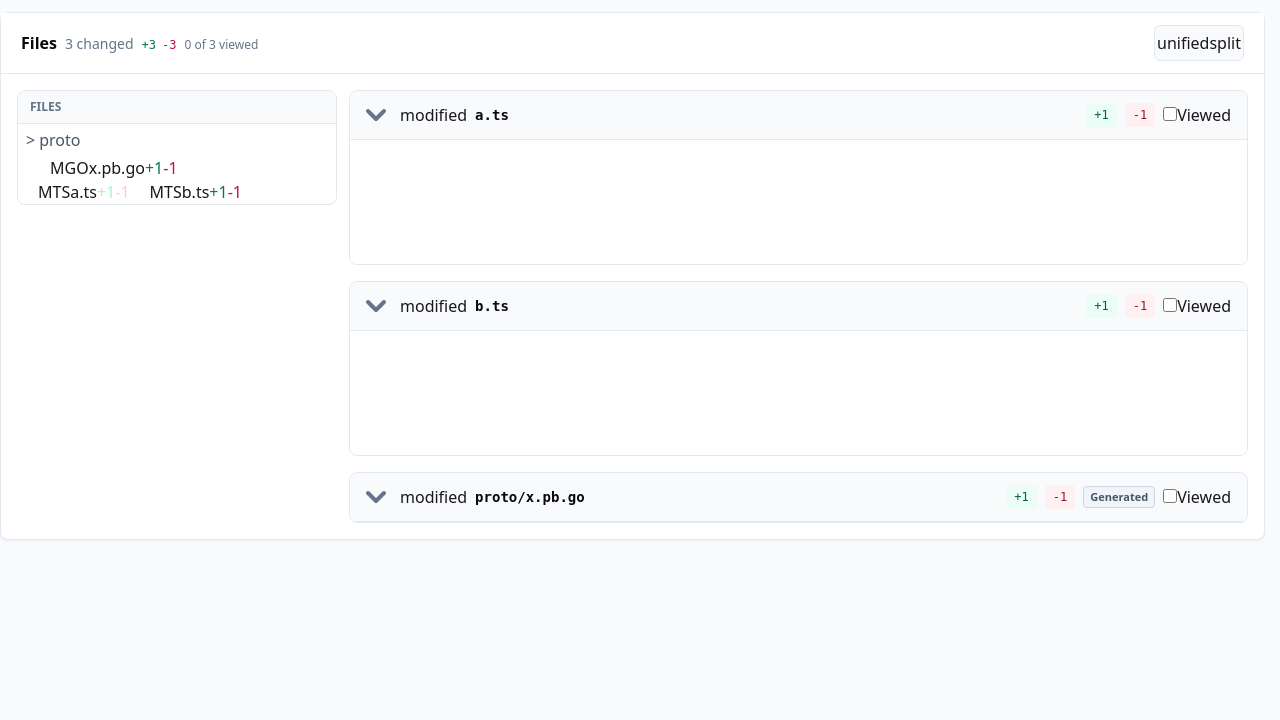
Test: reviewing a changeset's diff › marking a file viewed folds it, counts it and ticks it in the tree; unmarking opens it
Check: the text "0 of 3 viewed" is shown, box [184,37,258,53]
Click the checkbox named "Viewed a.ts": click(1170, 114) [1163,107,1177,121]
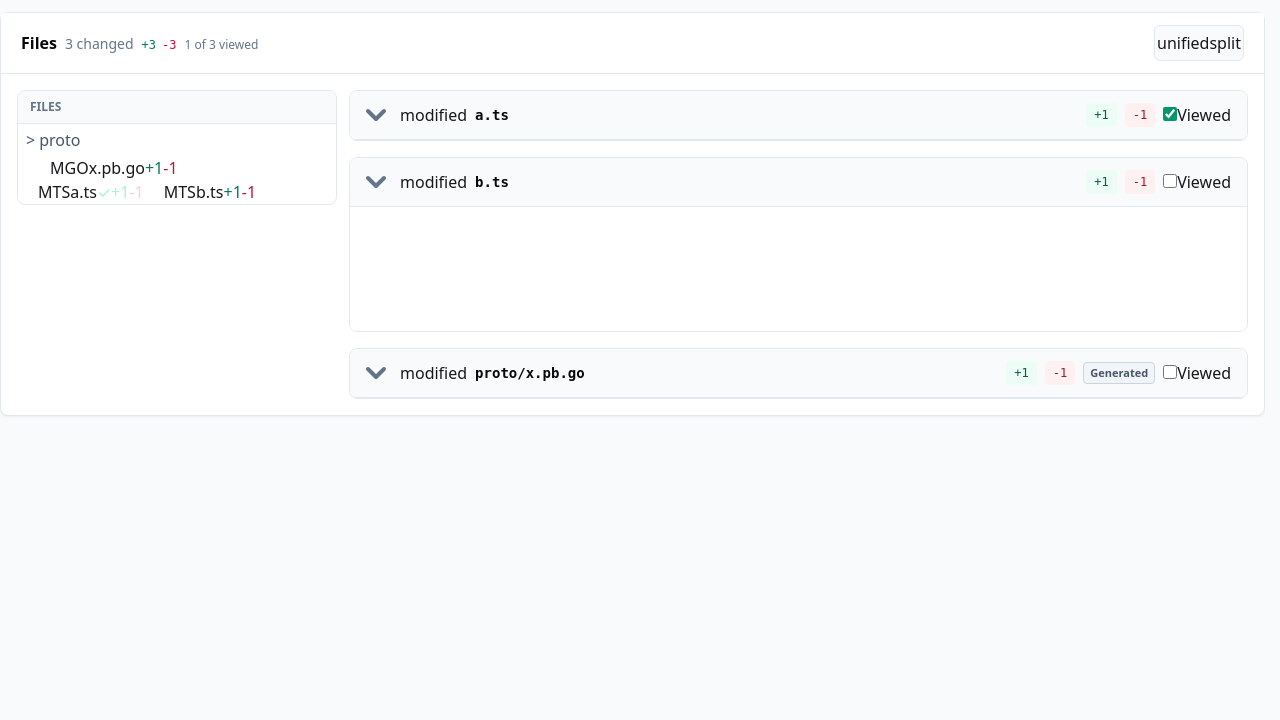
Check: the checkbox named "Viewed a.ts" is checked
Check: the text "1 of 3 viewed" is shown, box [184,37,258,53]
Check: the number of pictures named "viewed" is 1, box [97,181,111,203]
Click the checkbox named "Viewed a.ts": click(1170, 114) [1163,107,1177,121]
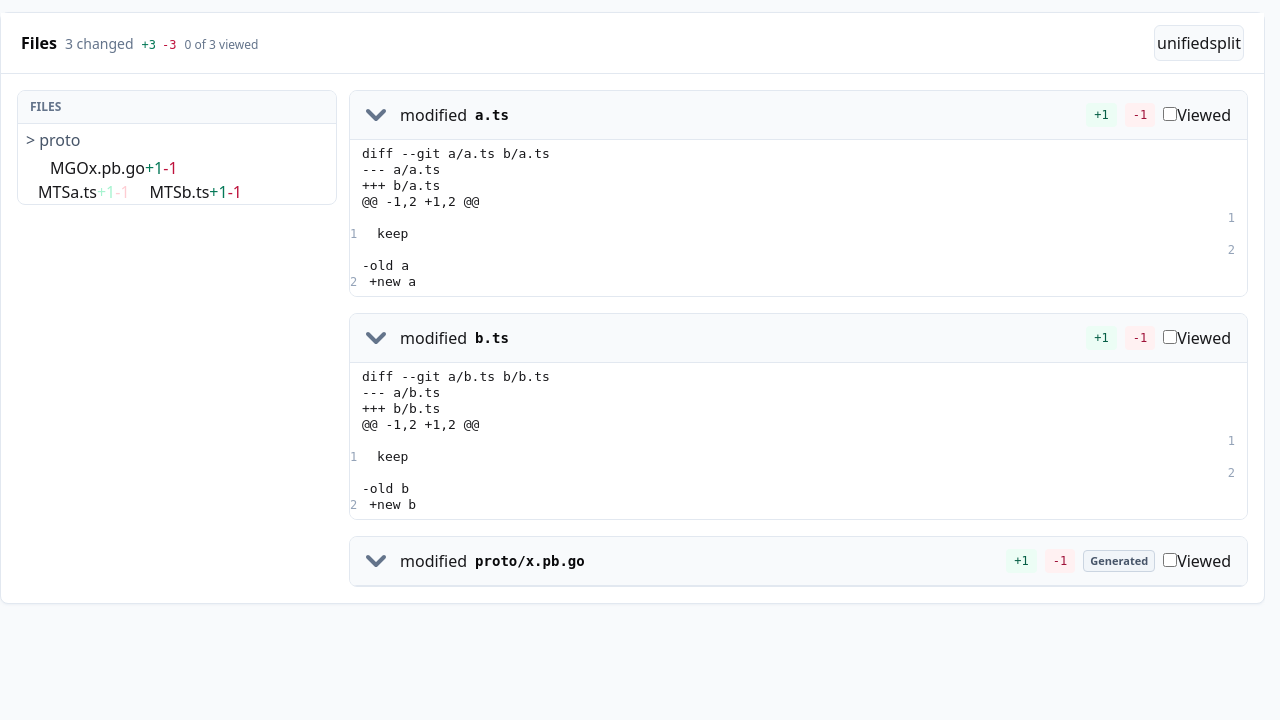
Check: the checkbox named "Viewed a.ts" is not checked, box [1163,107,1177,121]
Check: the text "0 of 3 viewed" is shown, box [184,37,258,53]
Check: the picture "✓" is gone
